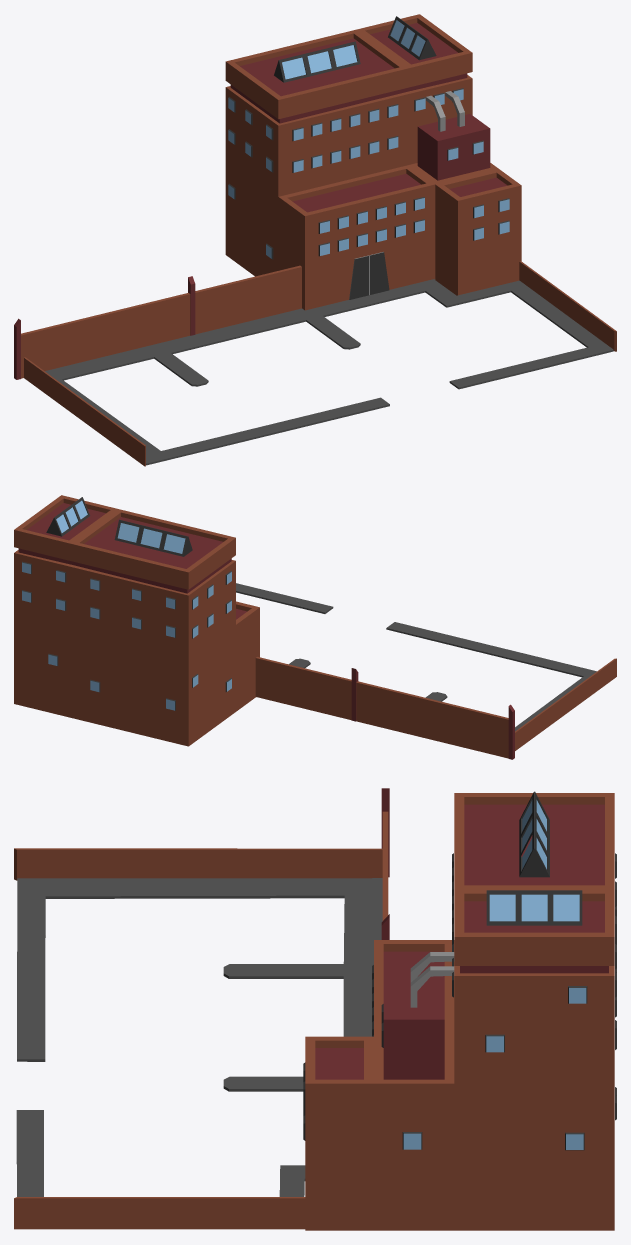
3 views of the same model, one above another, from view 1: azimuth 30°, elevation 25°; view 2: azimuth 150°, elevation 25°; view 3: azimuth 270°, elevation 25° (orthographic). The views are drawn at different scales.
Visible parts, largest first — view 1: DIV_T3_16_PERRONE_01, DIV_T3_16_PERRONE_01_10.001; view 2: DIV_T3_16_PERRONE_01; view 3: DIV_T3_16_PERRONE_01, DIV_T3_16_PERRONE_01_10.001.
Boxes of the visible parts, left/top/right/bottom form: DIV_T3_16_PERRONE_01: left=14, top=14, right=616, bottom=466; DIV_T3_16_PERRONE_01_10.001: left=45, top=279, right=435, bottom=373; DIV_T3_16_PERRONE_01: left=14, top=495, right=616, bottom=759; DIV_T3_16_PERRONE_01: left=14, top=788, right=616, bottom=1230; DIV_T3_16_PERRONE_01_10.001: left=372, top=878, right=382, bottom=964.
Bounding box in the file's own units: 3.94 × 1.63 × 2.82.
